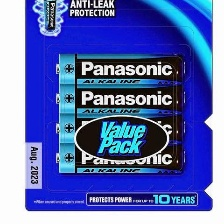battery: (50, 111, 191, 146), (53, 82, 189, 118), (52, 51, 186, 87), (52, 141, 188, 176)
book: (20, 0, 215, 214)
